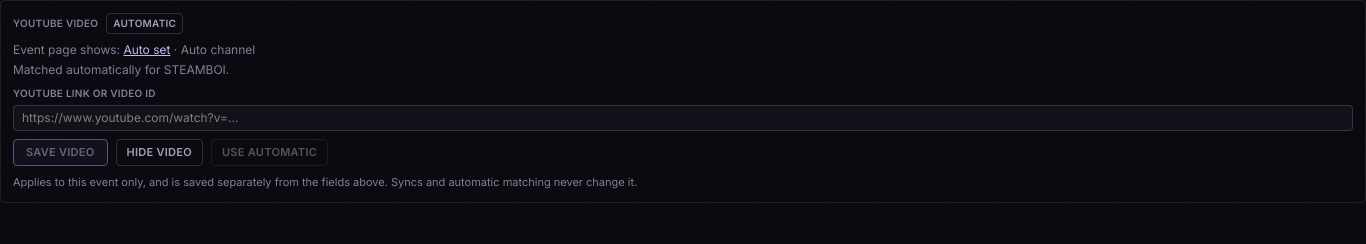
Test: EventYoutubePanel — actions › a server-side refusal (e.g. private video) shows its message and keeps the previous state and the typed value
Type "Pbb0KmuwYSA" into the field labelled "YouTube link or video id" at (683, 118), box [13,105,1353,131]
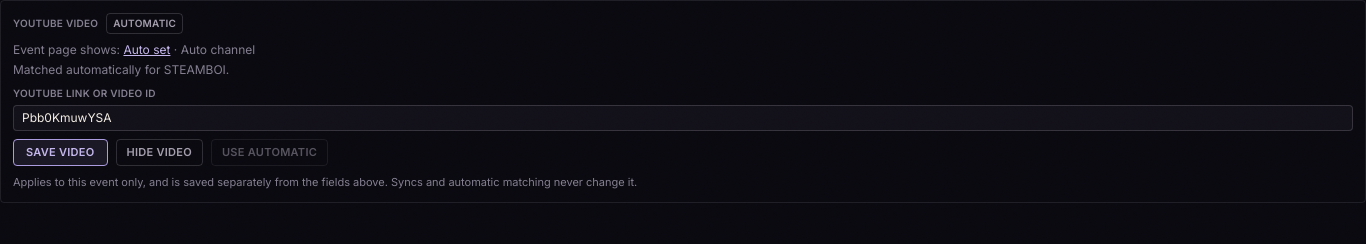
Click the button "Save video" at (60, 152), box [13,139,108,166]
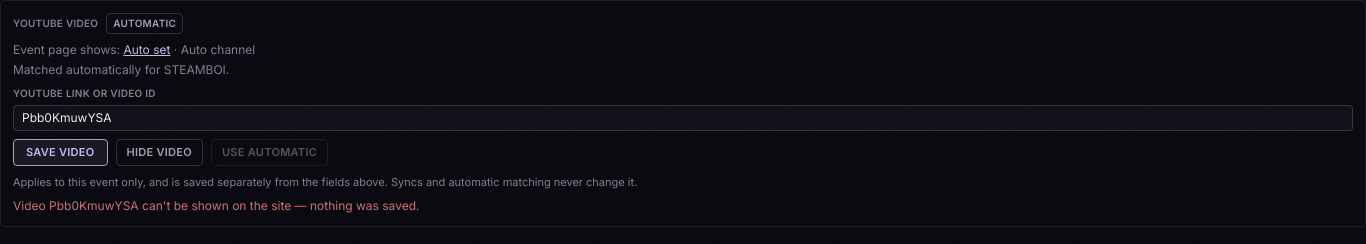
Expected: the text with test id "youtube-status" reads "Automatic", [113,17,176,29]
Expected: the message shows "nothing was saved", [13,198,420,213]
